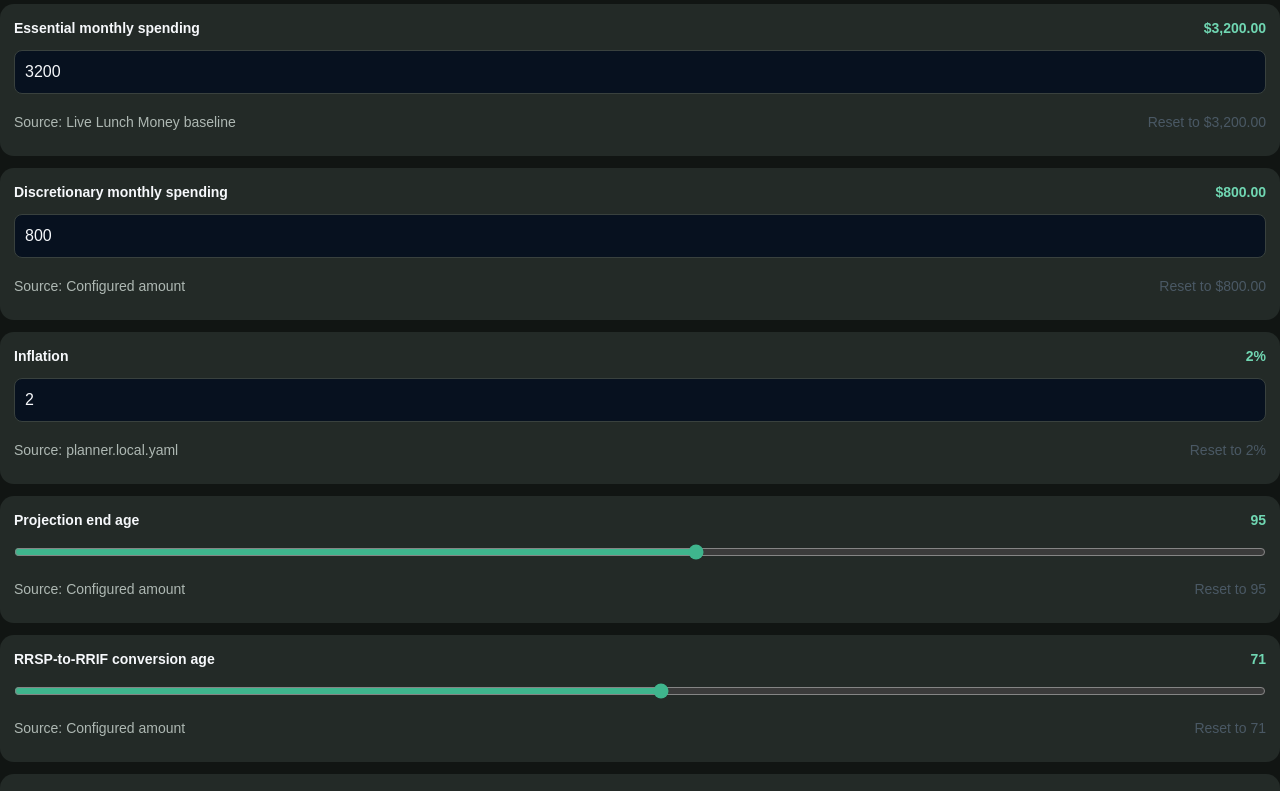
Scenario: precise scenario input semantics › distinguishes temporary scenarios, baseline values, and human-readable sources
(page scrolled)
Expected: the element labelled "Inflation" shows "Source: planner.local.yaml", [14,442,178,458]
Expected: the element labelled "Essential monthly spending" shows "Source: Live Lunch Money baseline", [14,114,236,130]
Replace the text in the number field labelled "Inflation" with "2.5": (640, 400) [14,378,1266,422]
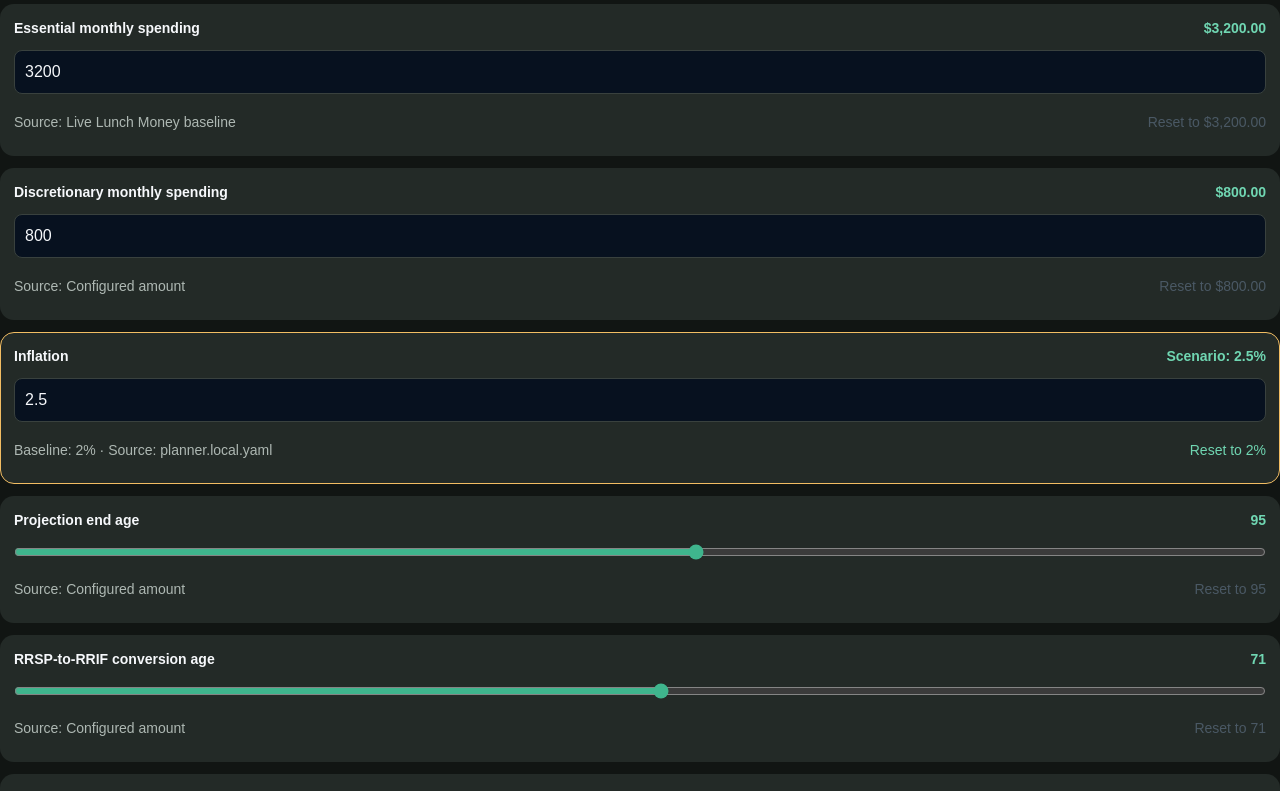
Expected: the element labelled "Inflation" shows "Source: planner.local.yaml", [108,442,272,458]
Now the element labelled "Inflation" shows "Scenario: 2.5%", box [0,332,1279,484]
Now the element labelled "Inflation" shows "Baseline: 2%", box [14,442,108,458]
